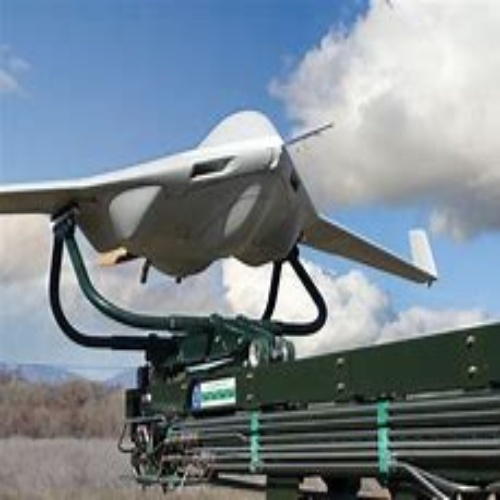uav697: (1, 107, 442, 291)
